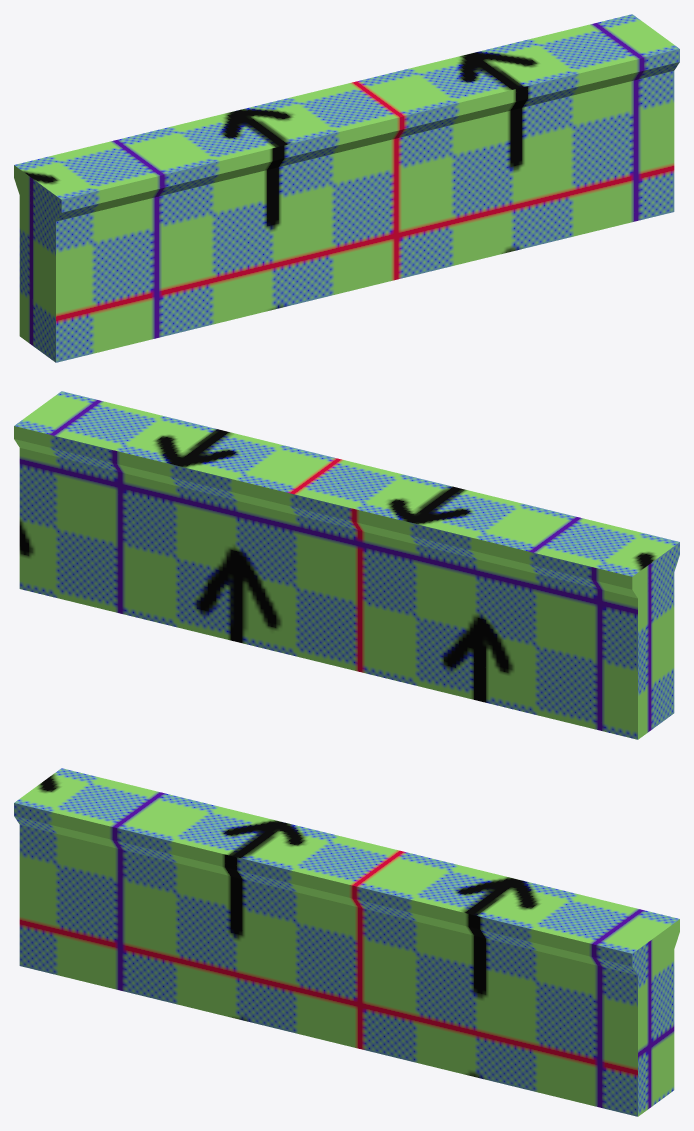
The model's file is rail.obj.
3 views of the same model, one above another, from view 1: azimuth 30°, elevation 25°; view 2: azimuth 150°, elevation 25°; view 3: azimuth 330°, elevation 25° (orthographic).
Parts seen in each view (by area): view 1: rail; view 2: rail; view 3: rail.
Part boxes in pixels (x1,y1,x2,y2): rail: [14, 14, 679, 362]; rail: [14, 391, 679, 739]; rail: [14, 768, 679, 1116].
Size of the model in its own units: 10 by 2.58 by 1.33.
